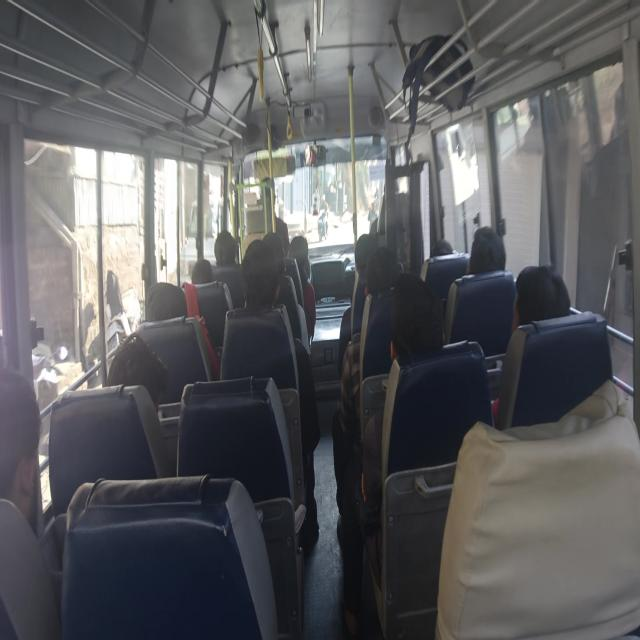person: (1, 365, 57, 530), (386, 260, 447, 370), (508, 259, 586, 338), (112, 318, 172, 400), (239, 238, 287, 321), (462, 218, 511, 293), (146, 278, 206, 326), (360, 245, 399, 292), (210, 222, 246, 268), (256, 171, 287, 214), (353, 224, 378, 275), (425, 230, 461, 262), (286, 222, 310, 268), (190, 252, 217, 289), (382, 171, 407, 209), (268, 222, 288, 268)
